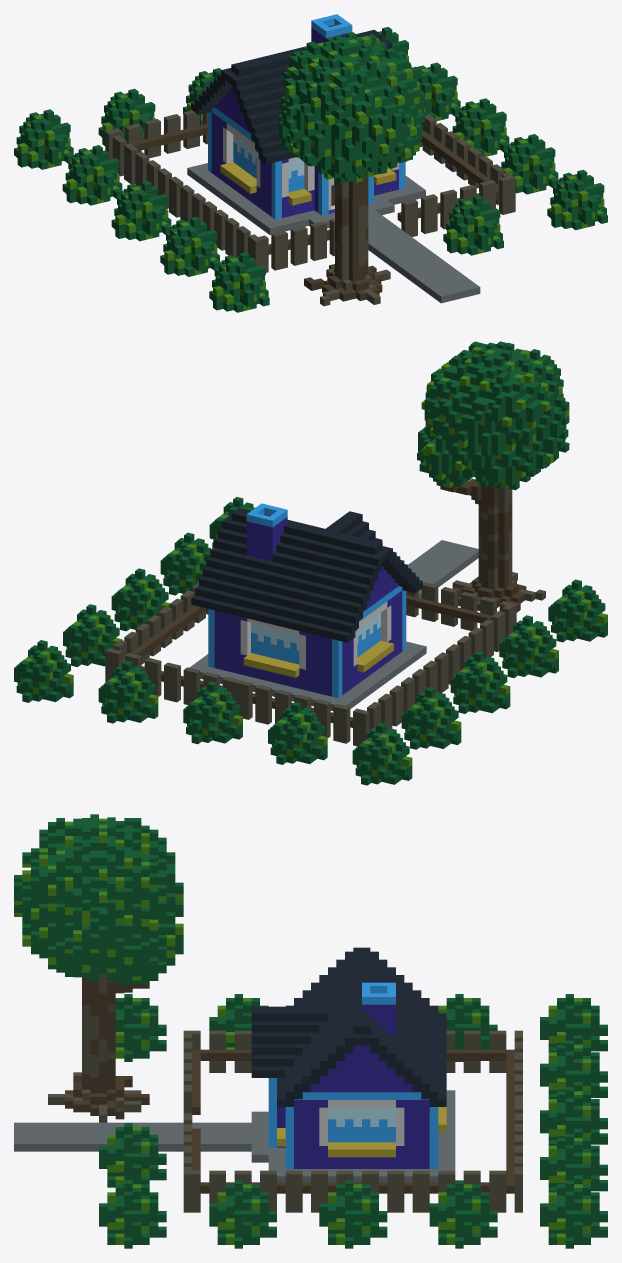
Rendered from building_small_2_overtile.obj.
3 views of the same model, one above another, from view 1: azimuth 30°, elevation 25°; view 2: azimuth 150°, elevation 25°; view 3: azimuth 270°, elevation 25° (orthographic). The views are drawn at different scales.
Bounding box in the file's own units: 6 × 3.6 × 7.
1 material, 1 textured.
